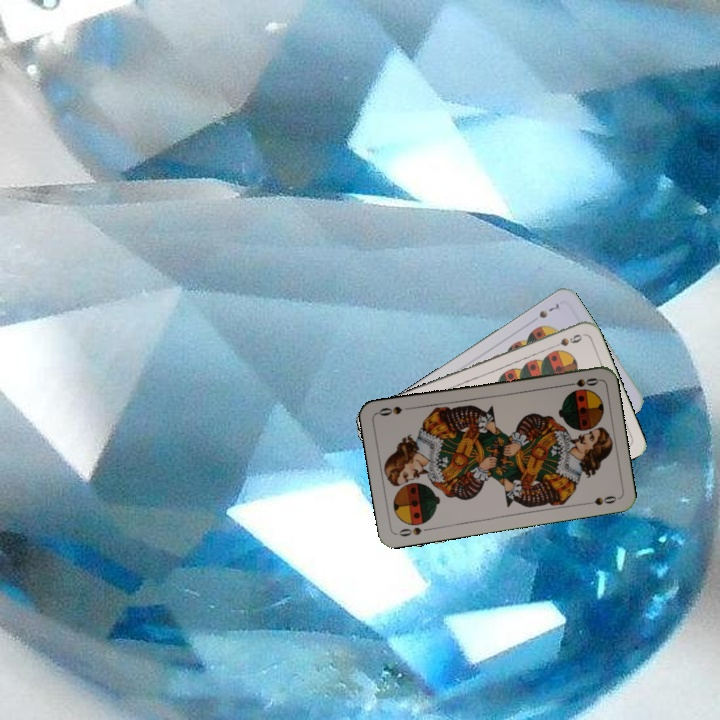S7: (535, 299, 562, 321)
S9: (546, 330, 585, 351)
SO: (560, 374, 601, 390), (393, 523, 434, 539)
